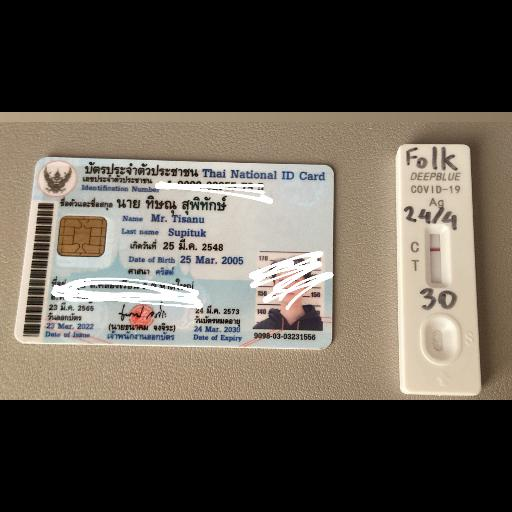Neg: (398, 144, 480, 392)
